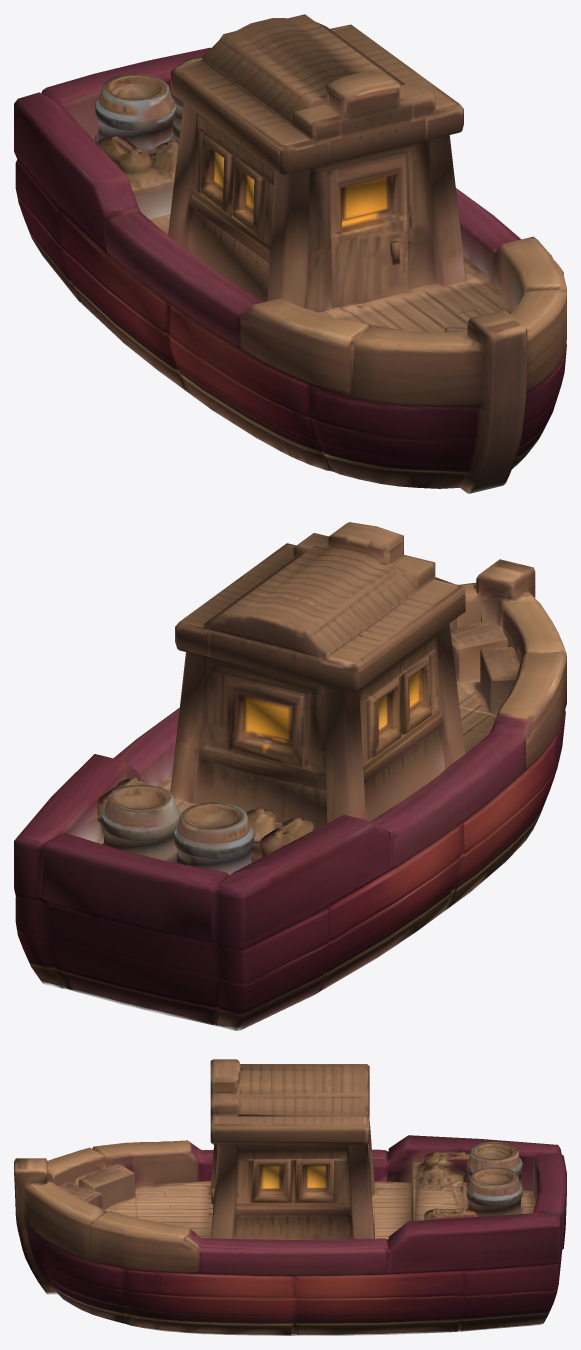
The model's file is barcote para usar.fbx.
3 views of the same model, one above another, from view 1: azimuth 30°, elevation 25°; view 2: azimuth 150°, elevation 25°; view 3: azimuth 270°, elevation 25° (orthographic). The views are drawn at different scales.
Parts seen in each view (by area): view 1: mesh_rep_0_ori_repair_quad; view 2: mesh_rep_0_ori_repair_quad; view 3: mesh_rep_0_ori_repair_quad.
Boxes of the visible parts, x1,y1,x2,y2 form: mesh_rep_0_ori_repair_quad: (14,14,566,493); mesh_rep_0_ori_repair_quad: (14,522,566,1030); mesh_rep_0_ori_repair_quad: (14,1059,566,1335).
Bounding box in the file's own units: 330 × 330 × 745.
Materials: 1 (1 with a texture image).
